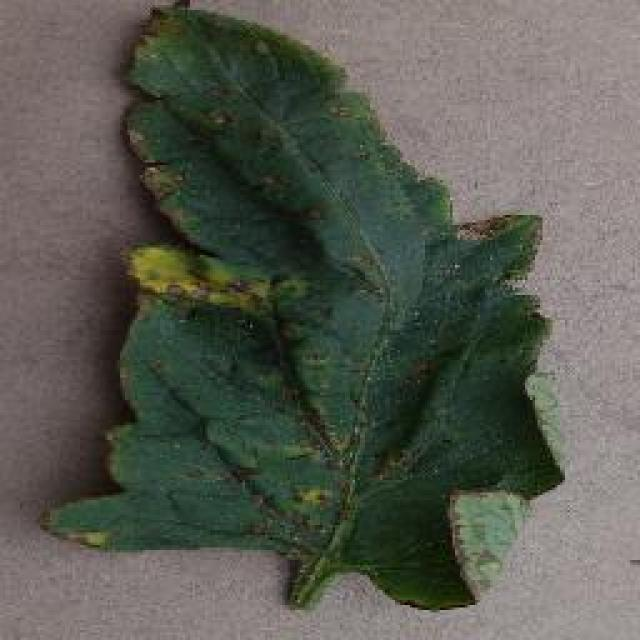Tomato___Bacterial_spot: (40, 2, 574, 616)
